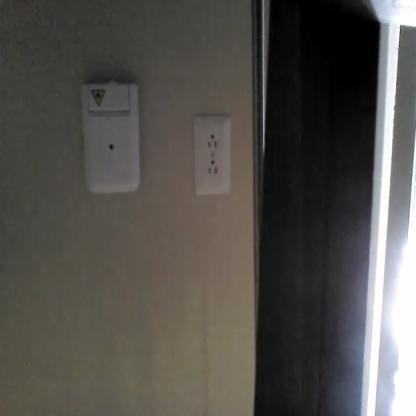OUTLET: (194, 116, 232, 196)
